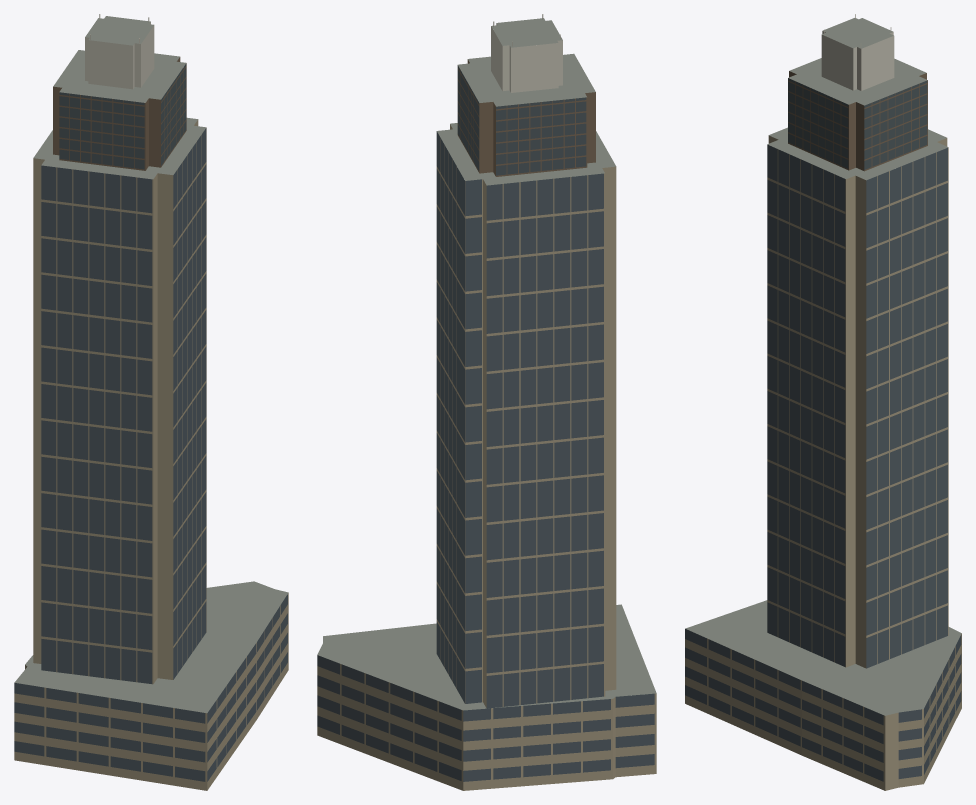
The model's file is tour-bretagne-nantes-far.glb.
3 views of the same model, side by side, from view 1: azimuth 30°, elevation 25°; view 2: azimuth 150°, elevation 25°; view 3: azimuth 270°, elevation 25° (orthographic). The views are drawn at different scales.
Visible parts, largest first — view 1: tour-bretagne-nantes-0-glass, tour-bretagne-nantes-0-frame, tour-bretagne-nantes-0-roof, tour-bretagne-nantes-0-vent, tour-bretagne-nantes-0-mechanical, tour-bretagne-nantes-0-tank; view 2: tour-bretagne-nantes-0-glass, tour-bretagne-nantes-0-frame, tour-bretagne-nantes-0-roof, tour-bretagne-nantes-0-vent, tour-bretagne-nantes-0-mechanical, tour-bretagne-nantes-0-tank; view 3: tour-bretagne-nantes-0-glass, tour-bretagne-nantes-0-frame, tour-bretagne-nantes-0-roof, tour-bretagne-nantes-0-vent, tour-bretagne-nantes-0-mechanical, tour-bretagne-nantes-0-tank.
Part boxes in pixels (left/top/right/bottom): tour-bretagne-nantes-0-glass: left=14, top=128, right=287, bottom=781; tour-bretagne-nantes-0-frame: left=14, top=119, right=288, bottom=790; tour-bretagne-nantes-0-roof: left=14, top=16, right=288, bottom=713; tour-bretagne-nantes-0-vent: left=59, top=64, right=186, bottom=169; tour-bretagne-nantes-0-mechanical: left=53, top=57, right=186, bottom=170; tour-bretagne-nantes-0-tank: left=85, top=14, right=154, bottom=89; tour-bretagne-nantes-0-glass: left=317, top=131, right=654, bottom=781; tour-bretagne-nantes-0-frame: left=317, top=124, right=656, bottom=790; tour-bretagne-nantes-0-roof: left=317, top=18, right=656, bottom=710; tour-bretagne-nantes-0-vent: left=457, top=65, right=586, bottom=175; tour-bretagne-nantes-0-mechanical: left=457, top=59, right=595, bottom=176; tour-bretagne-nantes-0-tank: left=491, top=14, right=562, bottom=92; tour-bretagne-nantes-0-glass: left=685, top=144, right=961, bottom=781; tour-bretagne-nantes-0-frame: left=685, top=135, right=961, bottom=790; tour-bretagne-nantes-0-roof: left=685, top=18, right=961, bottom=715; tour-bretagne-nantes-0-vent: left=788, top=78, right=927, bottom=169; tour-bretagne-nantes-0-mechanical: left=788, top=71, right=927, bottom=171; tour-bretagne-nantes-0-tank: left=821, top=14, right=894, bottom=90.
Size of the model in its own units: 64.28 by 144 by 53.44.
